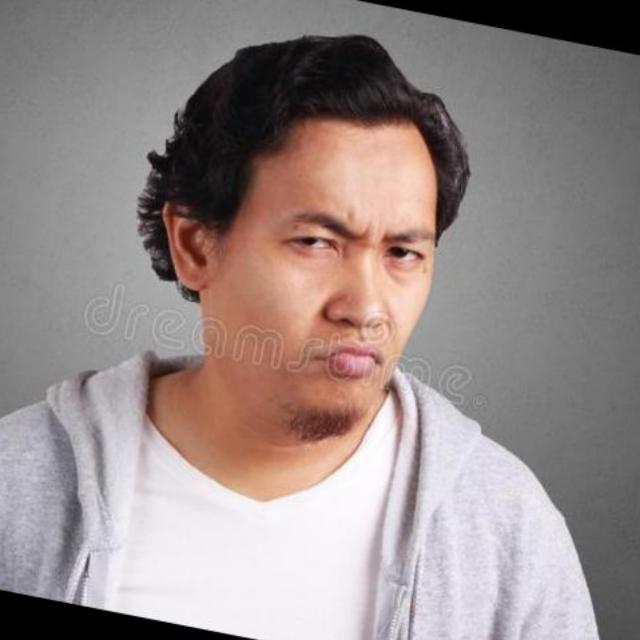Disgust: (124, 82, 547, 495)
